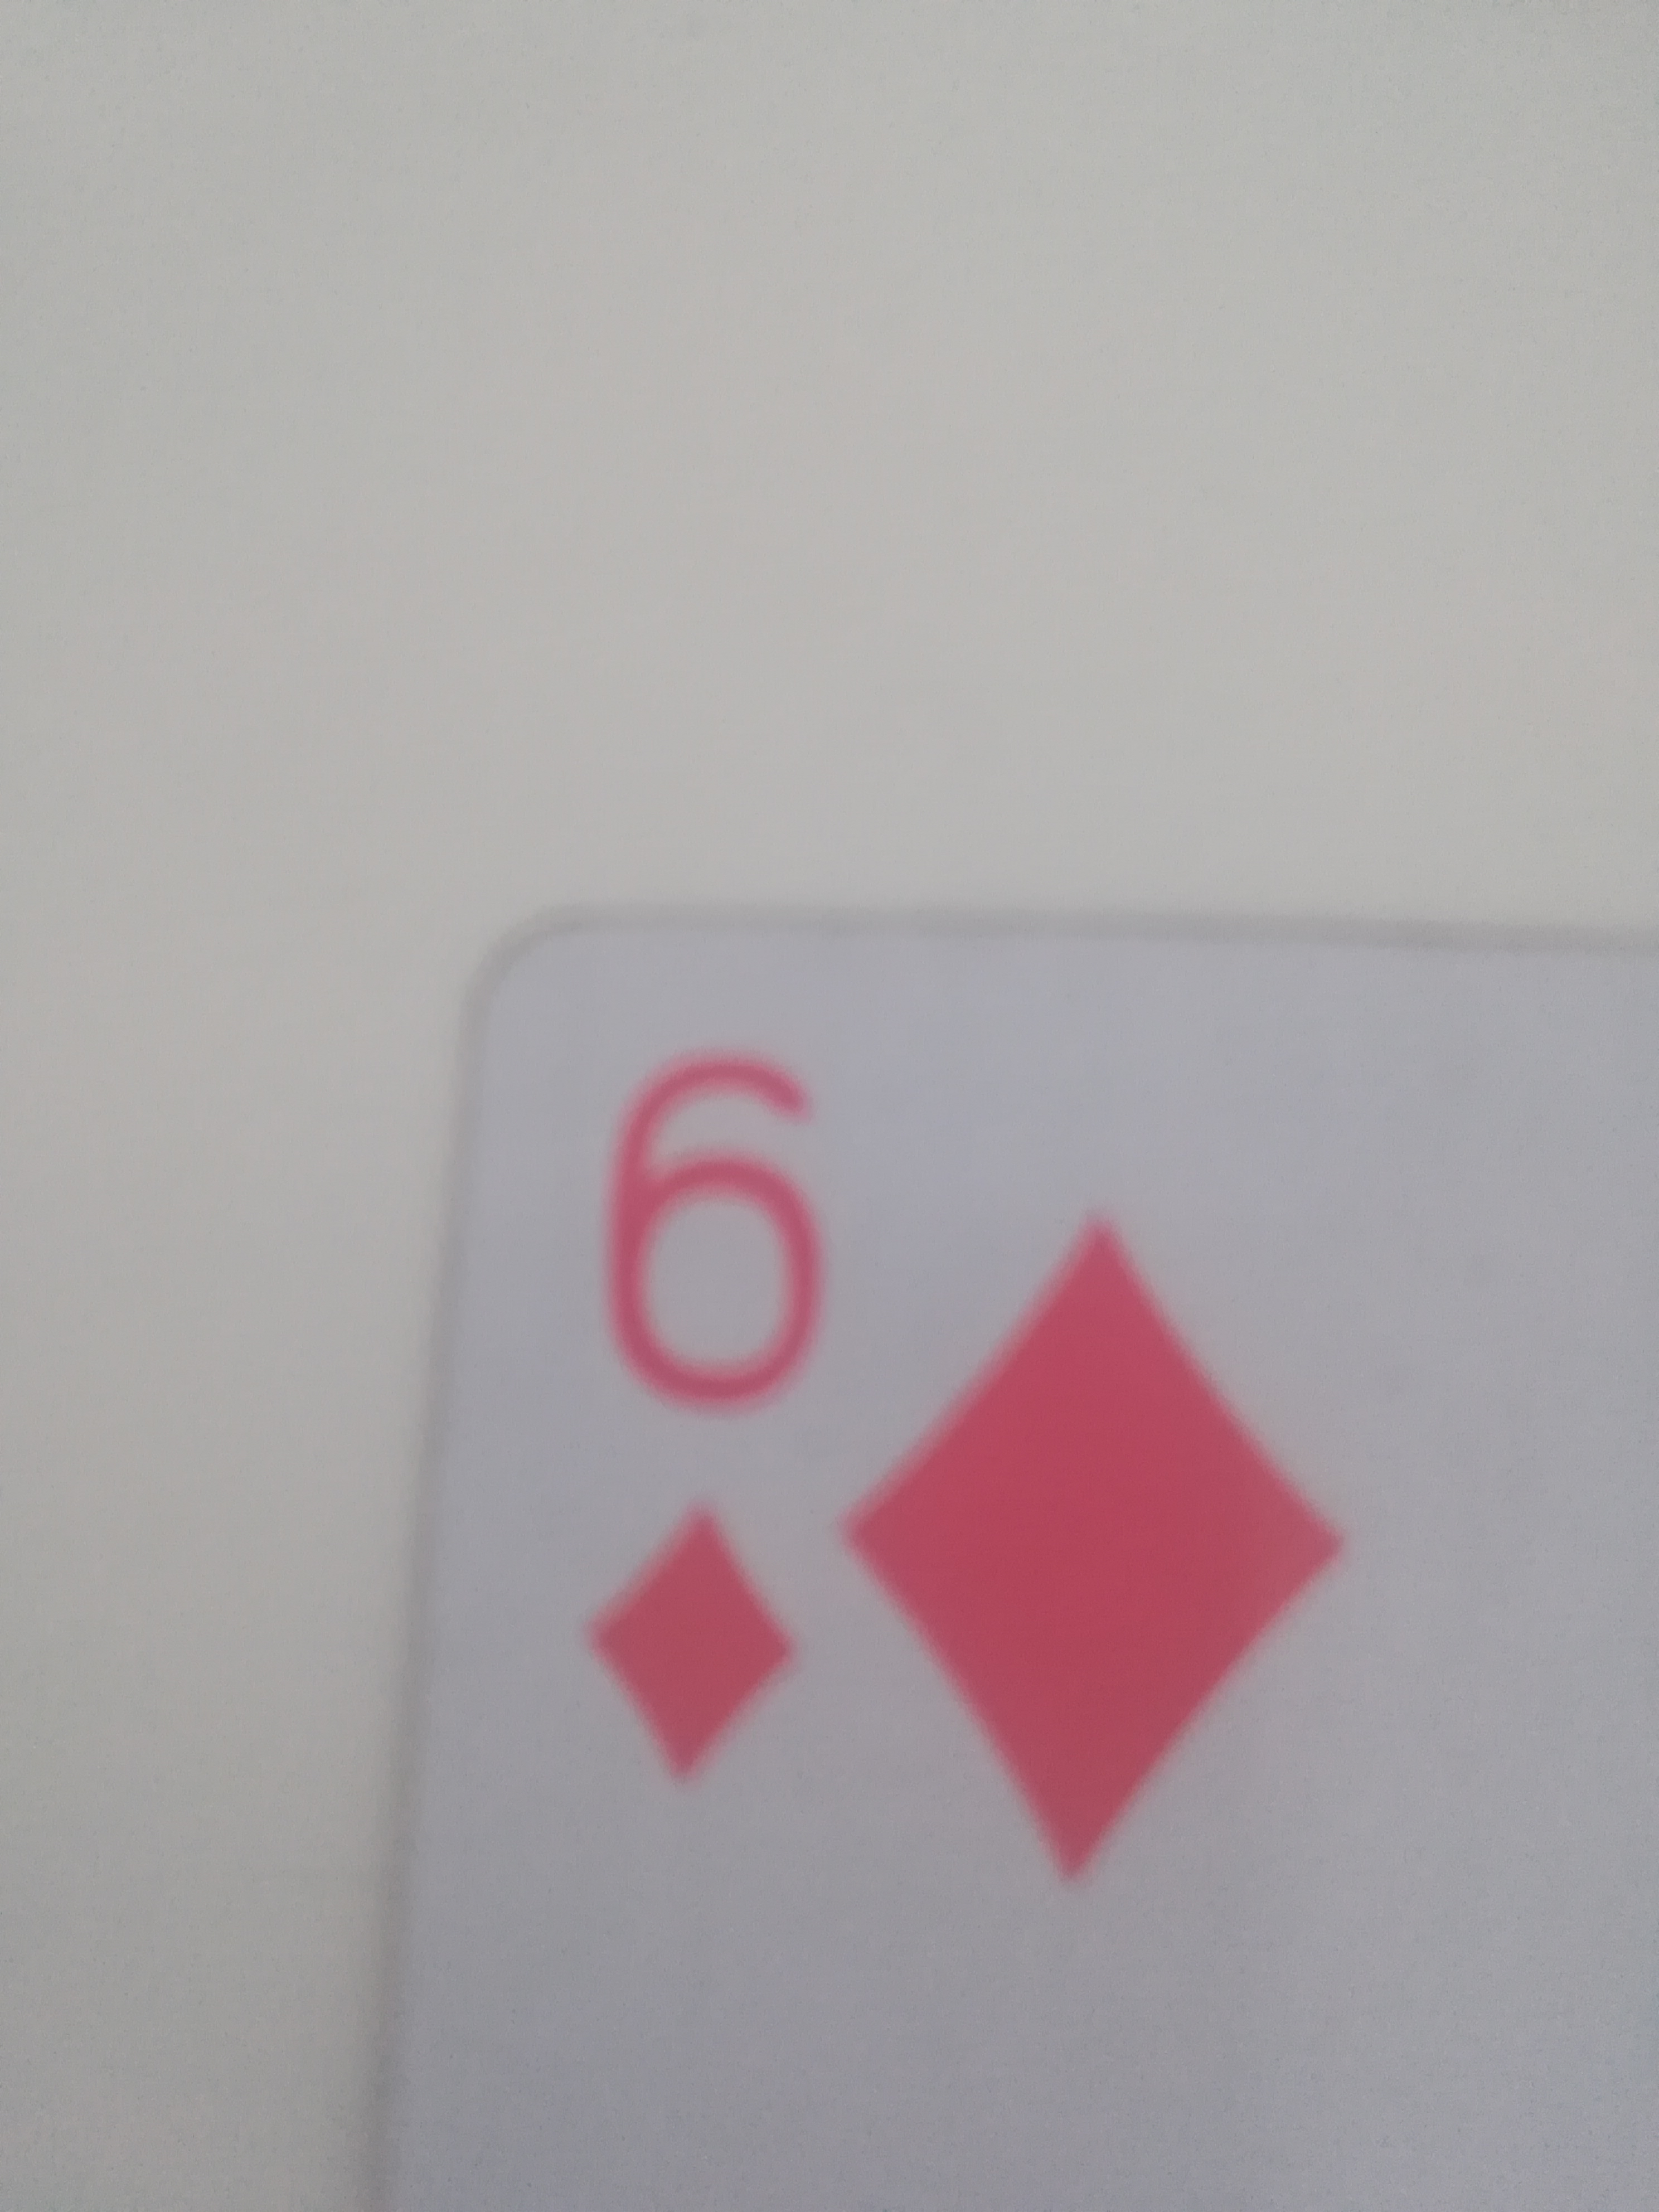6D: (382, 897, 1647, 2212)
